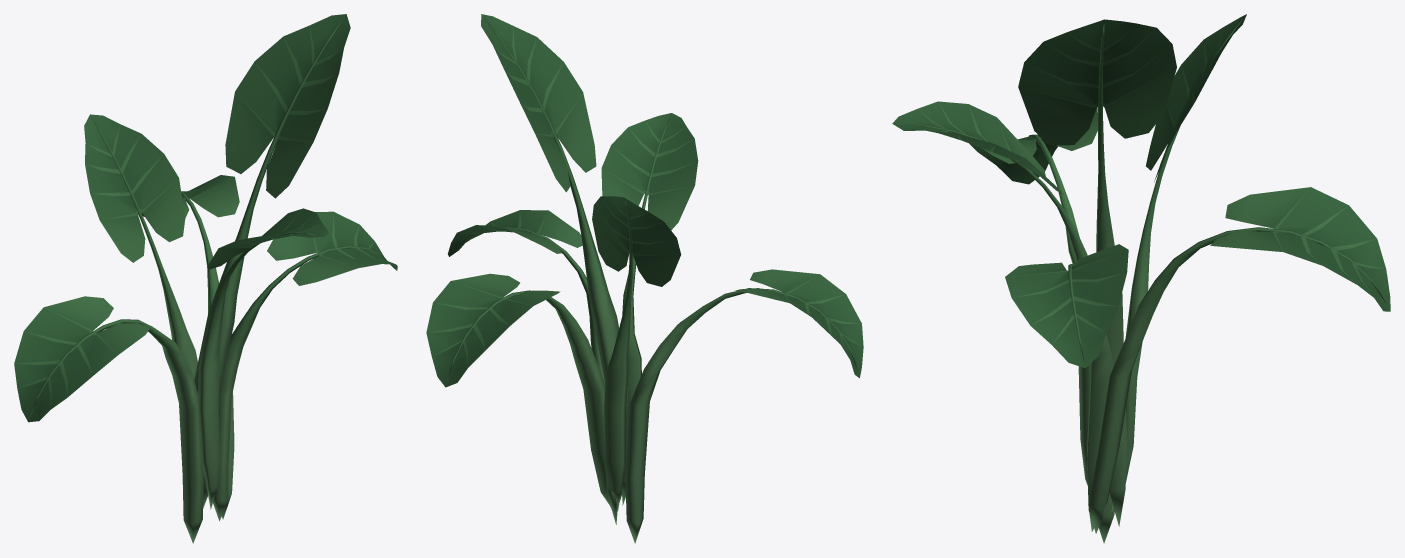
Rendered from plants-leafy-plants-broadleaf-plant_v7.fbx.
3 views of the same model, side by side, from view 1: azimuth 30°, elevation 25°; view 2: azimuth 150°, elevation 25°; view 3: azimuth 270°, elevation 25° (orthographic). The views are drawn at different scales.
Visible parts, largest first — view 1: Broadleaf Plant_v7; view 2: Broadleaf Plant_v7; view 3: Broadleaf Plant_v7.
Part boxes in pixels (left/top/right/bottom): Broadleaf Plant_v7: left=14, top=14, right=397, bottom=543; Broadleaf Plant_v7: left=426, top=14, right=863, bottom=543; Broadleaf Plant_v7: left=892, top=14, right=1390, bottom=543.
Bounding box in the file's own units: 0.4957 × 0.6 × 0.4382.
